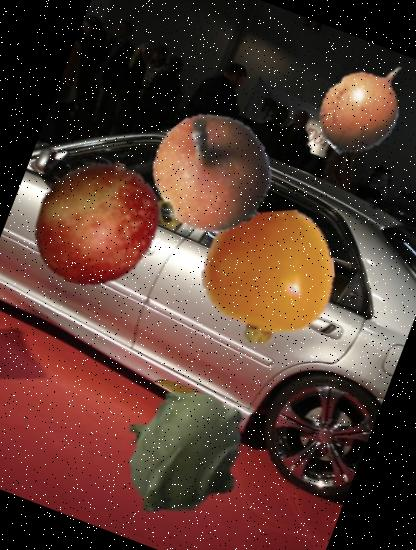Granadilla: (134, 96, 290, 252), (297, 38, 416, 175)
Kohlrabi: (92, 364, 274, 546)
Nectarine: (14, 141, 178, 306)
Physalis: (182, 194, 354, 366)
